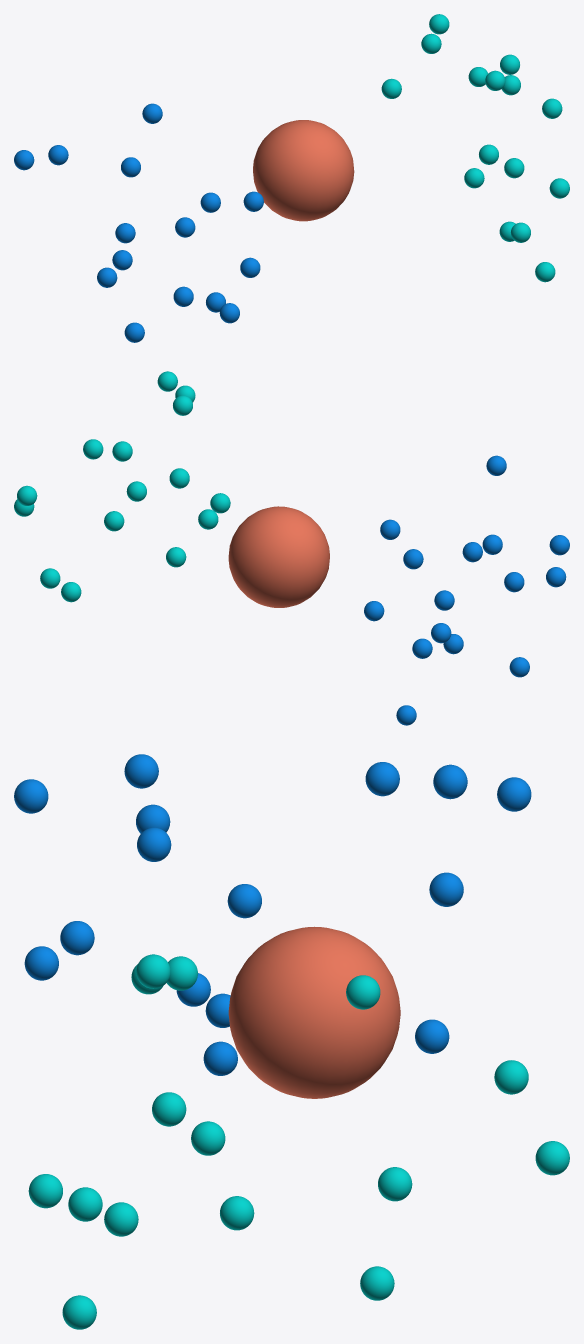
File: asset.glb
The picture shows the model from 3 angles, top to bottom: view 1: azimuth 30°, elevation 25°; view 2: azimuth 150°, elevation 25°; view 3: azimuth 270°, elevation 25°; orthographic projection. The views are drawn at different scales.
Parts seen in each view (by area): view 1: Atom_C; view 2: Atom_C; view 3: Atom_C, O2A_particle_2, O2B_particle_1, O2B_particle_14, O2A_particle_5, O2B_particle_11, O2B_particle_4, O2B_particle_5, O2A_particle_11, O2B_particle_13, O2B_particle_15, O2B_particle_7 (+17 smaller).
Part boxes in pixels (x1,y1,x2,y2): Atom_C: [253, 120, 354, 221]; Atom_C: [228, 506, 329, 607]; Atom_C: [228, 926, 400, 1098]; O2A_particle_2: [433, 764, 467, 799]; O2B_particle_1: [68, 1187, 102, 1221]; O2B_particle_14: [136, 954, 170, 988]; O2A_particle_5: [124, 754, 158, 788]; O2B_particle_11: [535, 1141, 569, 1175]; O2B_particle_4: [360, 1266, 394, 1300]; O2B_particle_5: [104, 1202, 138, 1236]; O2A_particle_11: [429, 872, 463, 906]; O2B_particle_13: [346, 975, 380, 1009]; O2B_particle_15: [62, 1295, 96, 1329]; O2B_particle_7: [494, 1060, 528, 1094].
Bounding box in the file's own units: 9.77 × 4.17 × 5.81.
